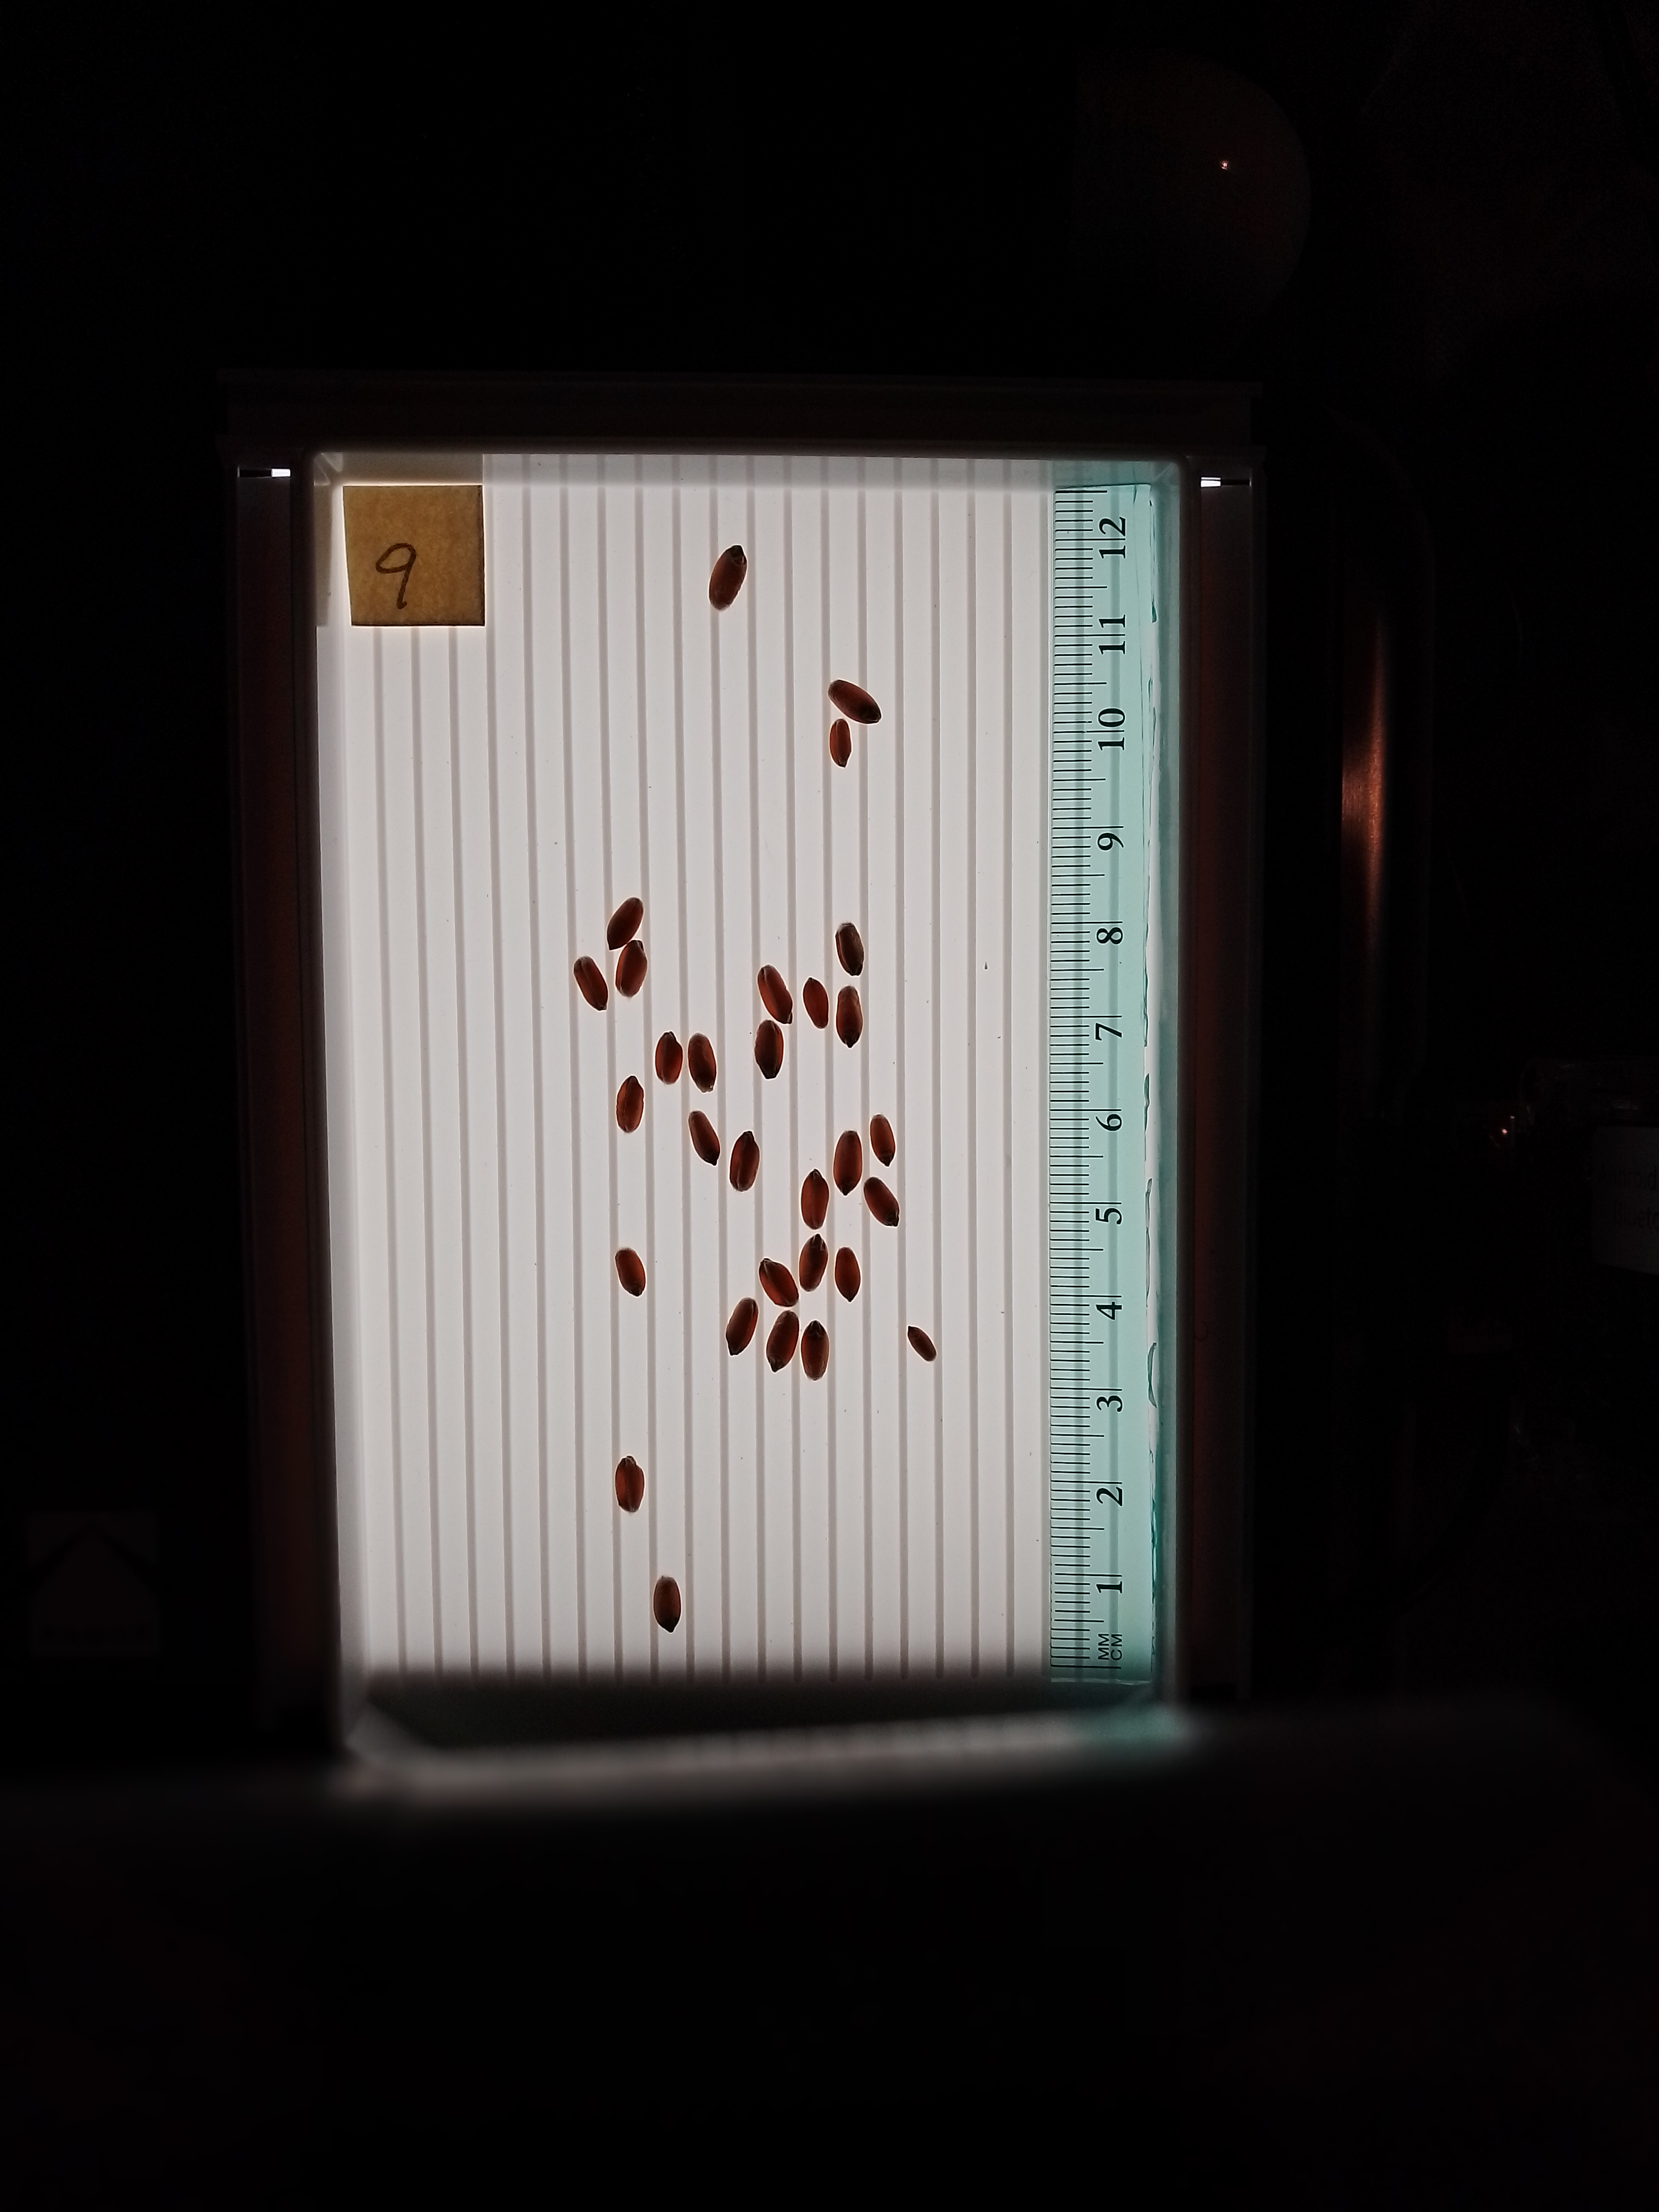seed mask: (709, 547, 748, 611), (830, 681, 880, 725), (767, 1313, 800, 1371), (573, 956, 608, 1010), (758, 968, 791, 1022), (760, 1261, 796, 1308), (617, 941, 647, 998), (730, 1134, 760, 1191), (608, 899, 643, 948), (688, 1111, 720, 1165), (833, 1134, 861, 1193), (802, 1322, 830, 1381), (727, 1299, 756, 1355), (615, 1458, 645, 1512), (652, 1576, 681, 1630), (866, 1179, 899, 1226), (755, 1022, 782, 1078), (617, 1076, 645, 1132), (688, 1036, 716, 1090), (836, 989, 863, 1045), (802, 1172, 828, 1226), (800, 1237, 826, 1291), (836, 923, 864, 974), (655, 1035, 683, 1085), (617, 1249, 647, 1296), (835, 1249, 861, 1299), (803, 977, 828, 1028), (870, 1116, 894, 1163), (830, 719, 852, 765), (908, 1327, 936, 1362)
